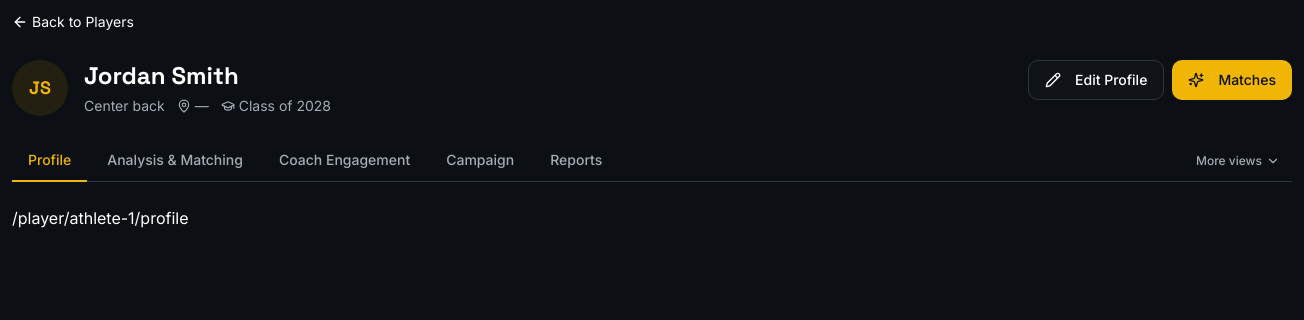
Test: the primary bar › "More views" opens the three secondary views, each at its own route
Click the button with test id "more-views-button".
click(1238, 162)  # box [1184, 143, 1292, 181]
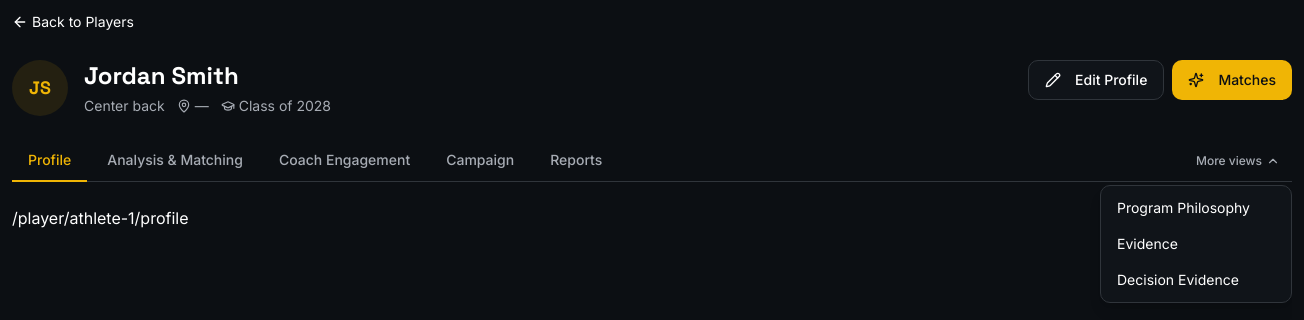
Click the menu item "Evidence".
click(1147, 244)  # box [1117, 235, 1178, 252]
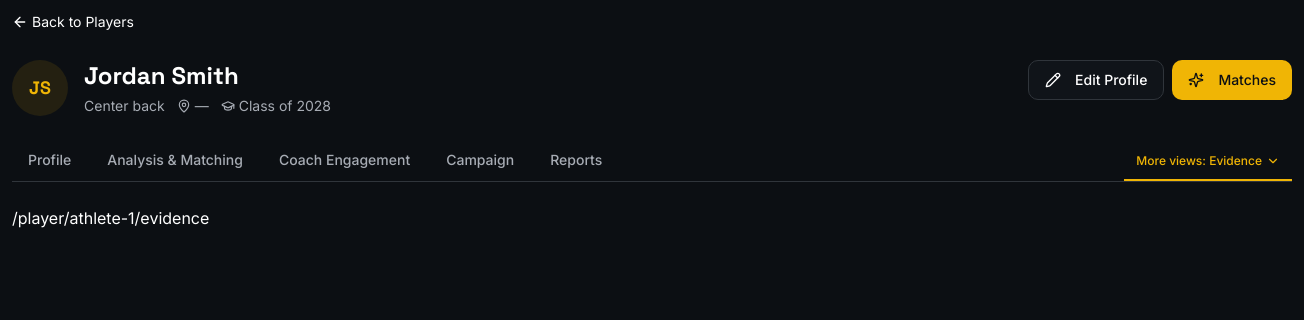
Now the text with test id "where" reads "/player/athlete-1/evidence", box [12, 208, 209, 228]
Now the menu with test id "more-views-menu" is gone
Now the button with test id "more-views-button" reads "More views: Evidence", box [1124, 143, 1292, 181]
